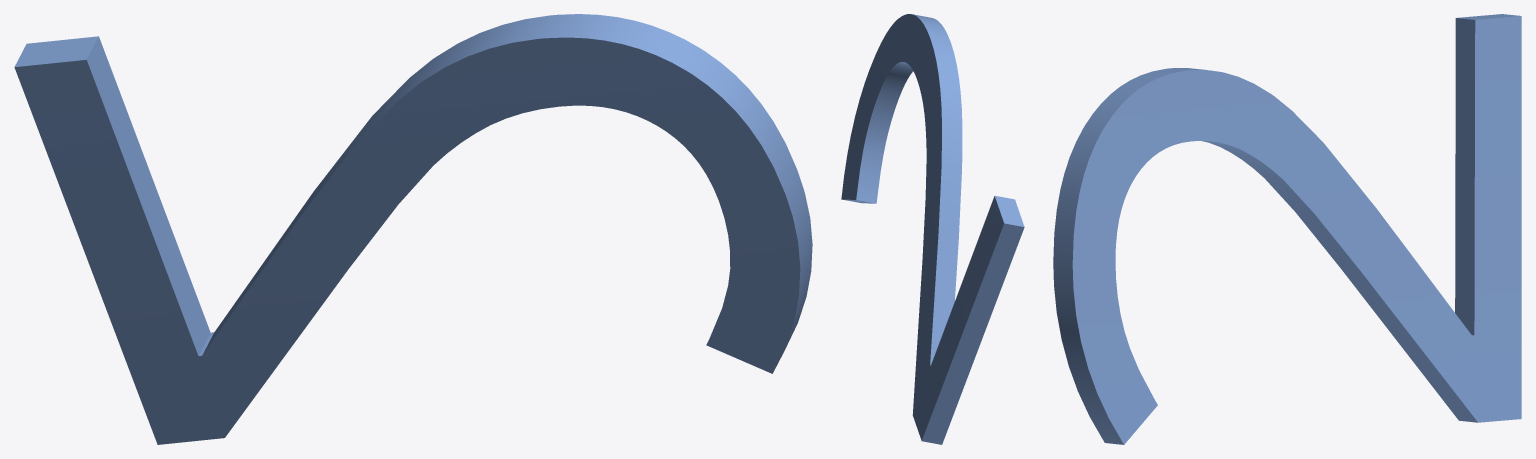
The model's file is New_Number_2.gltf.
The picture shows the model from 3 angles, left to right: view 1: azimuth 30°, elevation 25°; view 2: azimuth 150°, elevation 25°; view 3: azimuth 270°, elevation 25°; orthographic projection. The views are drawn at different scales.
Visible parts, largest first — view 1: Part 380; view 2: Part 380; view 3: Part 380.
Part boxes in pixels (x1=…): Part 380: x1=14, y1=14, x2=812, y2=444; Part 380: x1=841, y1=14, x2=1024, y2=444; Part 380: x1=1053, y1=14, x2=1521, y2=444.
Size of the model in its own units: 0.00434 by 0.00394 by 0.00383.
